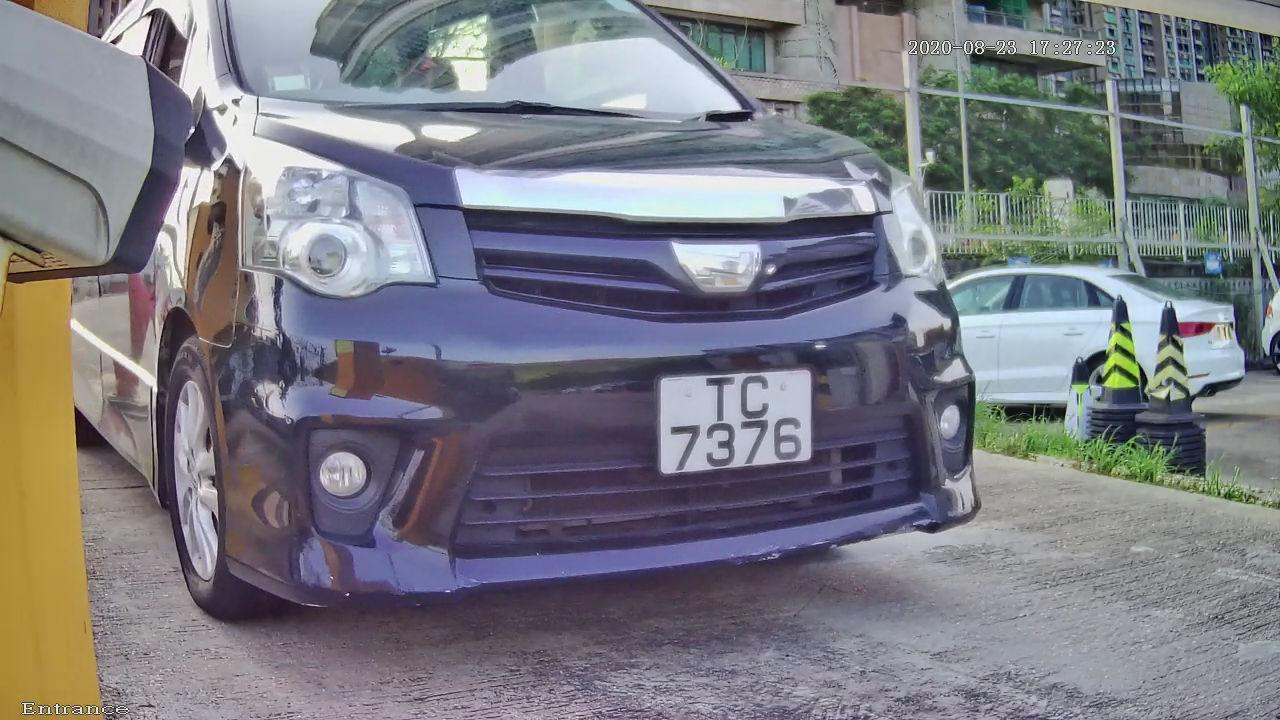Car: (92, 7, 1041, 653)
License Plate: (641, 348, 835, 492)
